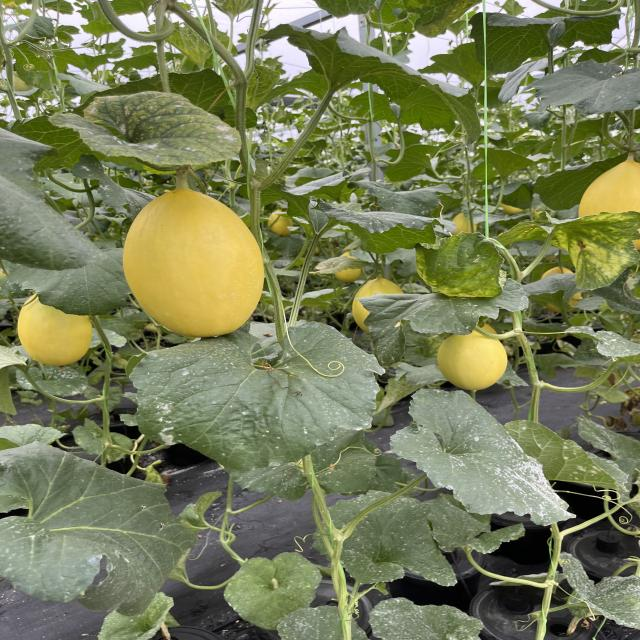alternaria leaf blight: (52, 88, 242, 166), (497, 210, 640, 290), (414, 232, 516, 298)
downy mildew: (0, 132, 77, 286), (539, 58, 640, 117), (320, 204, 441, 250)
healthy: (301, 24, 422, 97), (474, 12, 618, 64), (403, 72, 482, 133)
powdery mildew: (137, 329, 382, 456), (0, 453, 195, 608), (395, 387, 574, 528), (321, 491, 454, 588), (558, 553, 640, 633), (568, 412, 640, 499), (411, 503, 516, 553), (370, 597, 484, 640), (560, 317, 640, 372), (276, 606, 367, 640)
